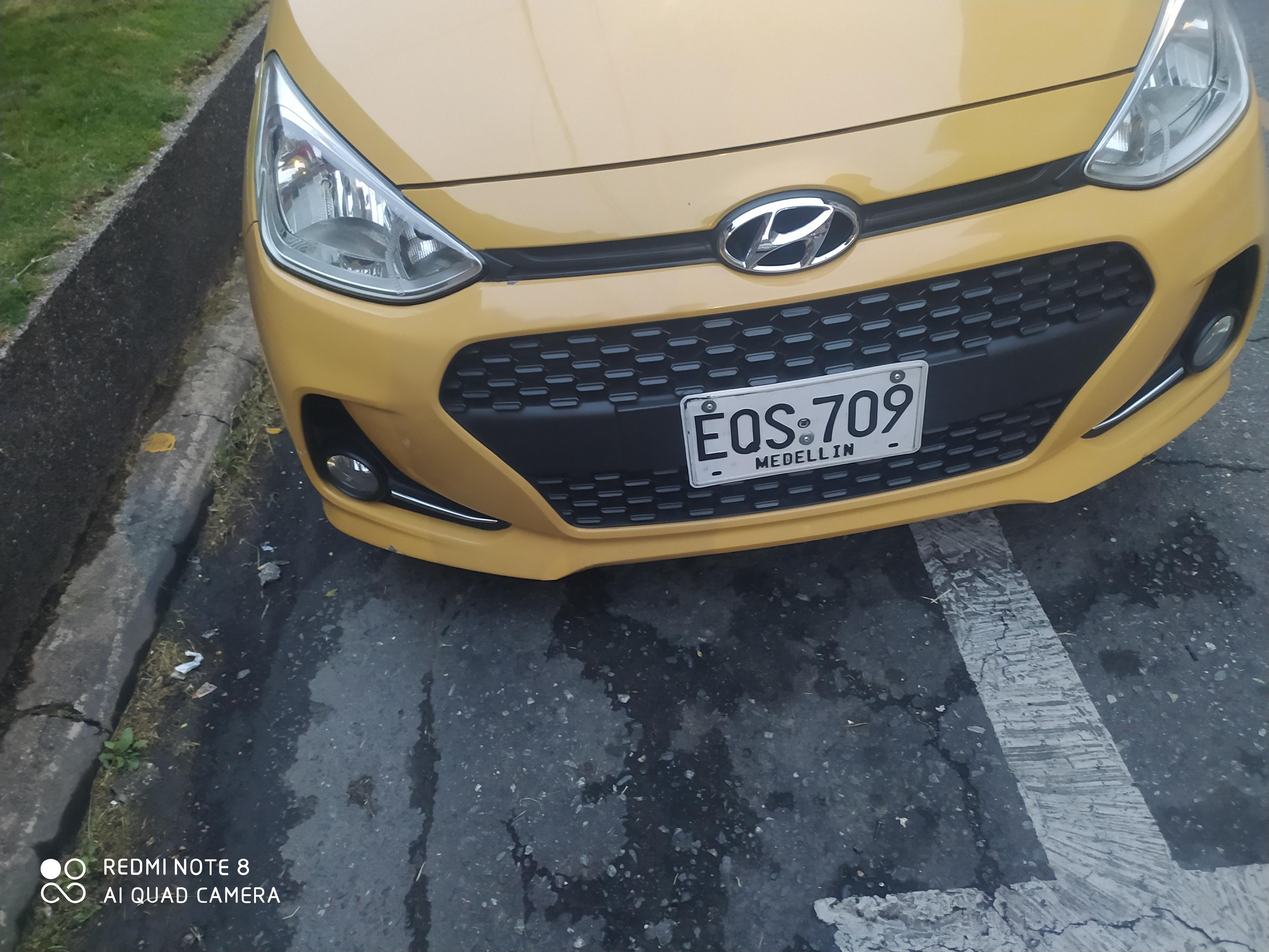placa: (663, 359, 947, 491)
